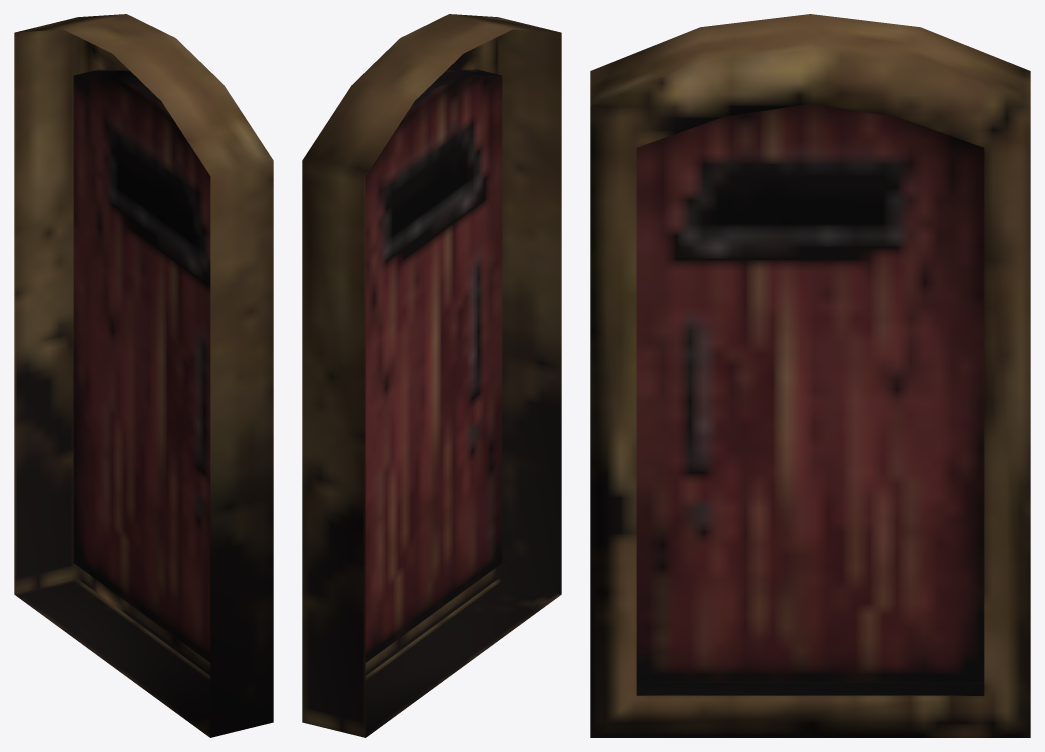
Rendered from HouseDoor3.fbx.
3 views of the same model, side by side, from view 1: azimuth 30°, elevation 25°; view 2: azimuth 150°, elevation 25°; view 3: azimuth 270°, elevation 25° (orthographic). The views are drawn at different scales.
Parts seen in each view (by area): view 1: HouseDoor.002; view 2: HouseDoor.002; view 3: HouseDoor.002.
Part boxes in pixels (x1,y1,x2,y2): HouseDoor.002: (14, 14, 273, 737); HouseDoor.002: (302, 14, 561, 737); HouseDoor.002: (590, 14, 1030, 737).
Bounding box in the file's own units: 41.11 × 379 × 220.
